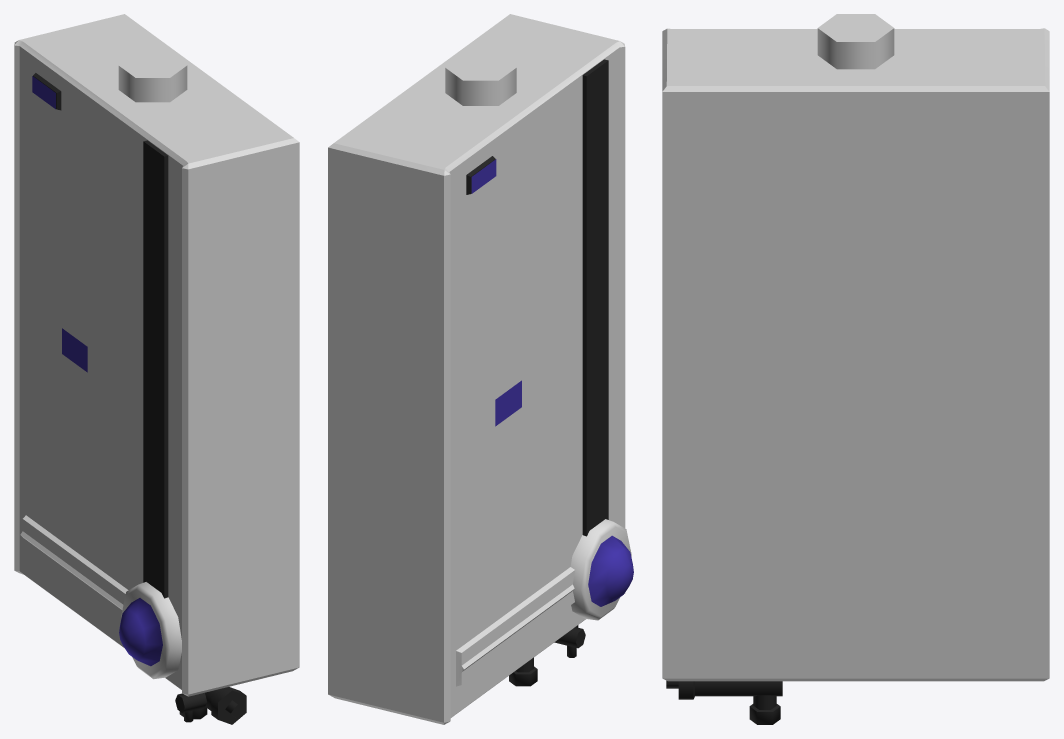
File: WHJSQ168C.FBX
3 views of the same model, side by side, from view 1: azimuth 30°, elevation 25°; view 2: azimuth 150°, elevation 25°; view 3: azimuth 270°, elevation 25° (orthographic). The views are drawn at different scales.
Parts seen in each view (by area): view 1: WHJSQ168C; view 2: WHJSQ168C; view 3: WHJSQ168C.
Part boxes in pixels (x1,y1,x2,y2): WHJSQ168C: [14, 14, 299, 724]; WHJSQ168C: [328, 14, 633, 724]; WHJSQ168C: [662, 14, 1049, 724].
Bounding box in the file's own units: 14.61 × 30 × 59.14.
